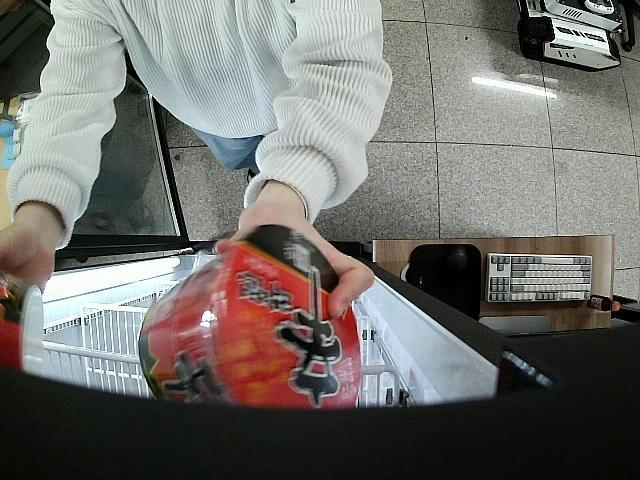01_ShinRamen_L: (137, 226, 362, 412)
